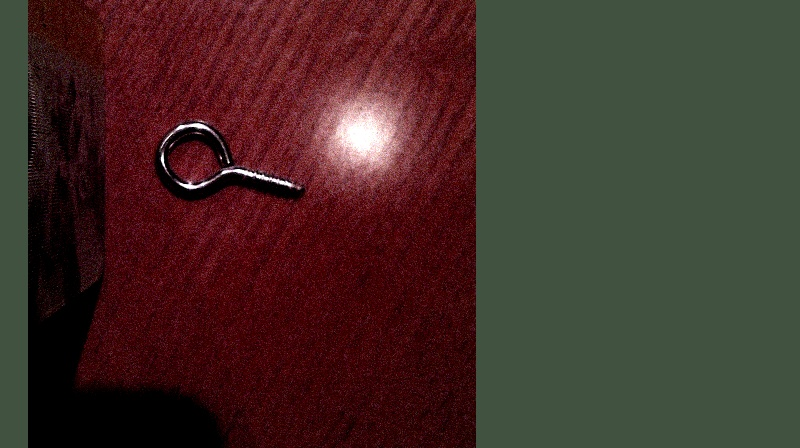O001: (153, 117, 306, 206)
